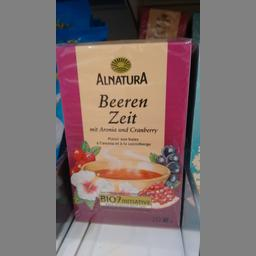tea: (56, 38, 190, 228)
